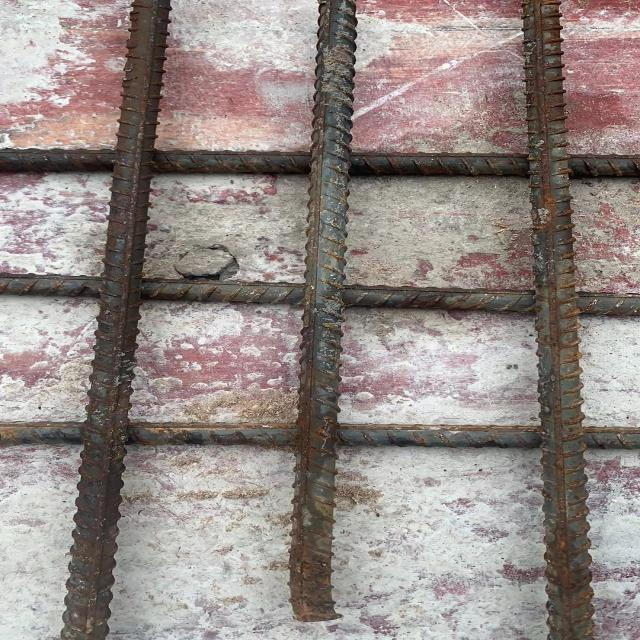ribbed bar: (60, 0, 176, 639), (284, 0, 363, 622), (522, 0, 597, 639), (1, 272, 640, 318), (1, 147, 640, 181), (1, 421, 640, 449)
